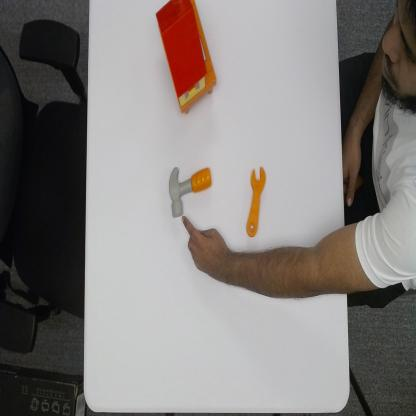Arm: (234, 229, 392, 304)
Hammer: (168, 166, 212, 218)
Hand: (180, 208, 233, 289)
House: (155, 0, 217, 116)
Screwdriver: (245, 165, 267, 236)
